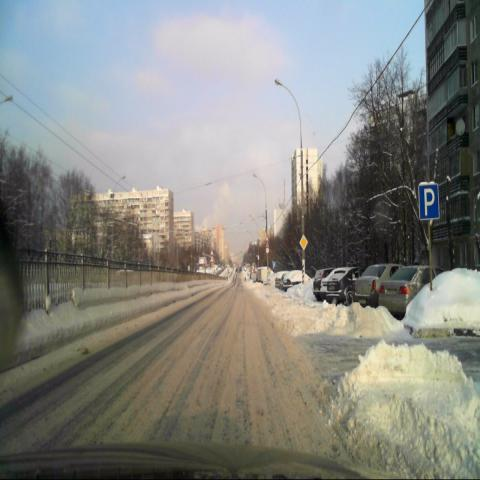6_4: (418, 182, 440, 223)
